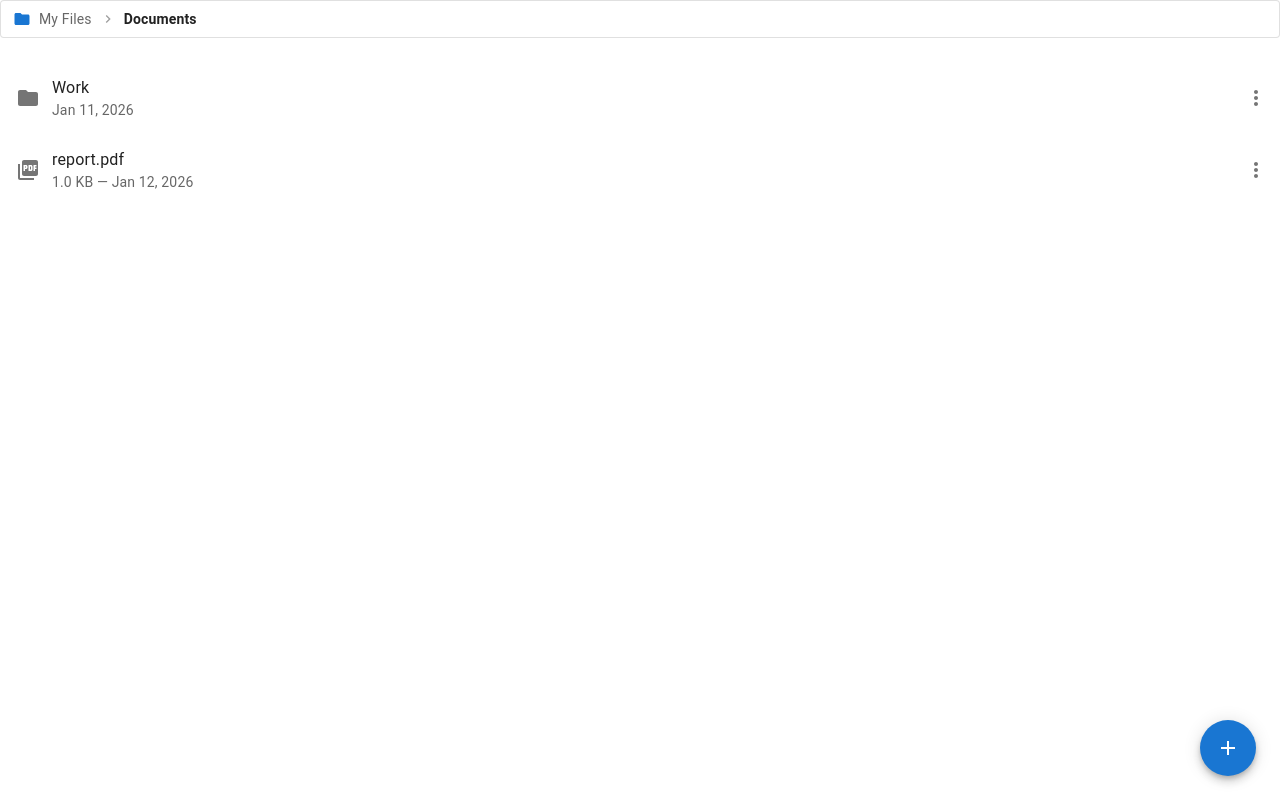
Test: FolderPage › shows owner actions for owned folders
Check: the text "Work" is shown, box [52,78,89,97]
# Open the folder's action menu
Click the button named "actions" in the row of "Work". click: click(1256, 98)
box: [1236,78,1276,118]
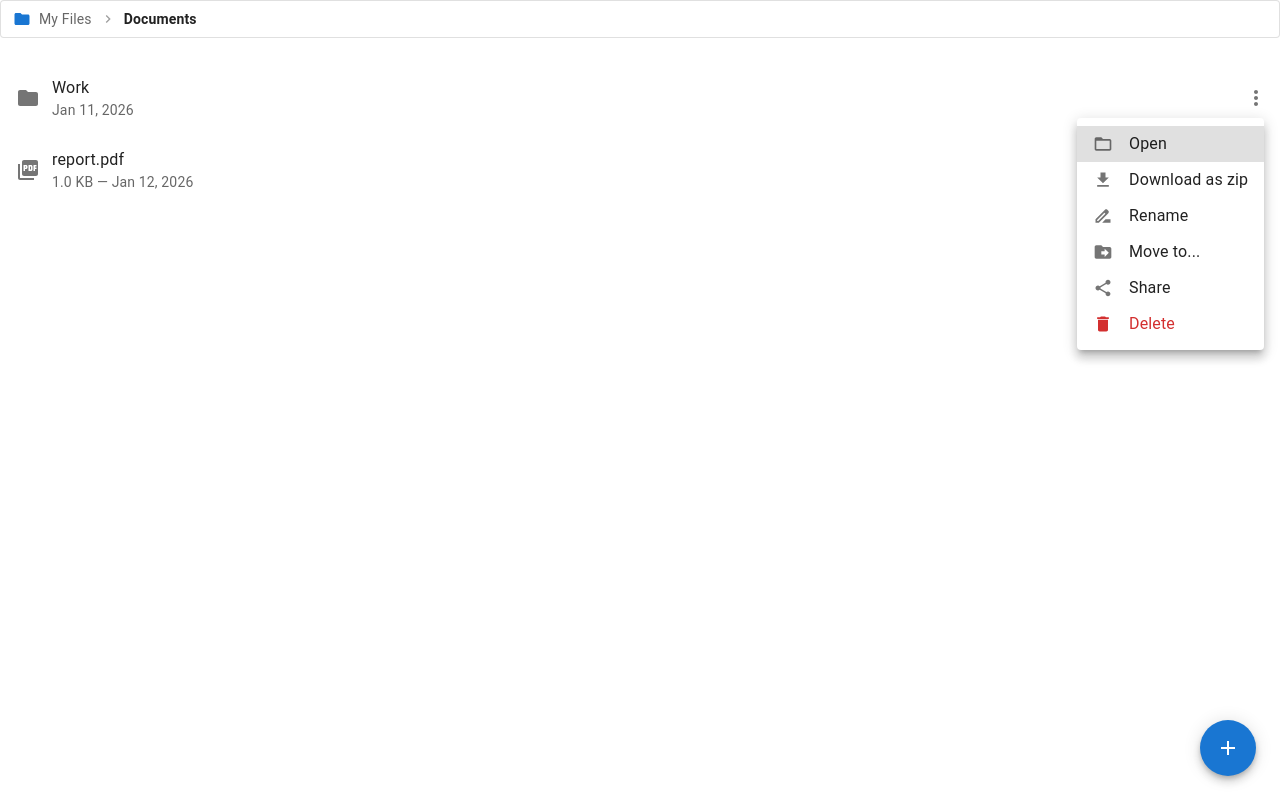
Check: the menu item "Rename" is shown, box [1093,206,1188,226]
Check: the menu item "Delete" is shown, box [1093,314,1175,334]
Check: the menu item "Share" is shown, box [1093,278,1170,298]
